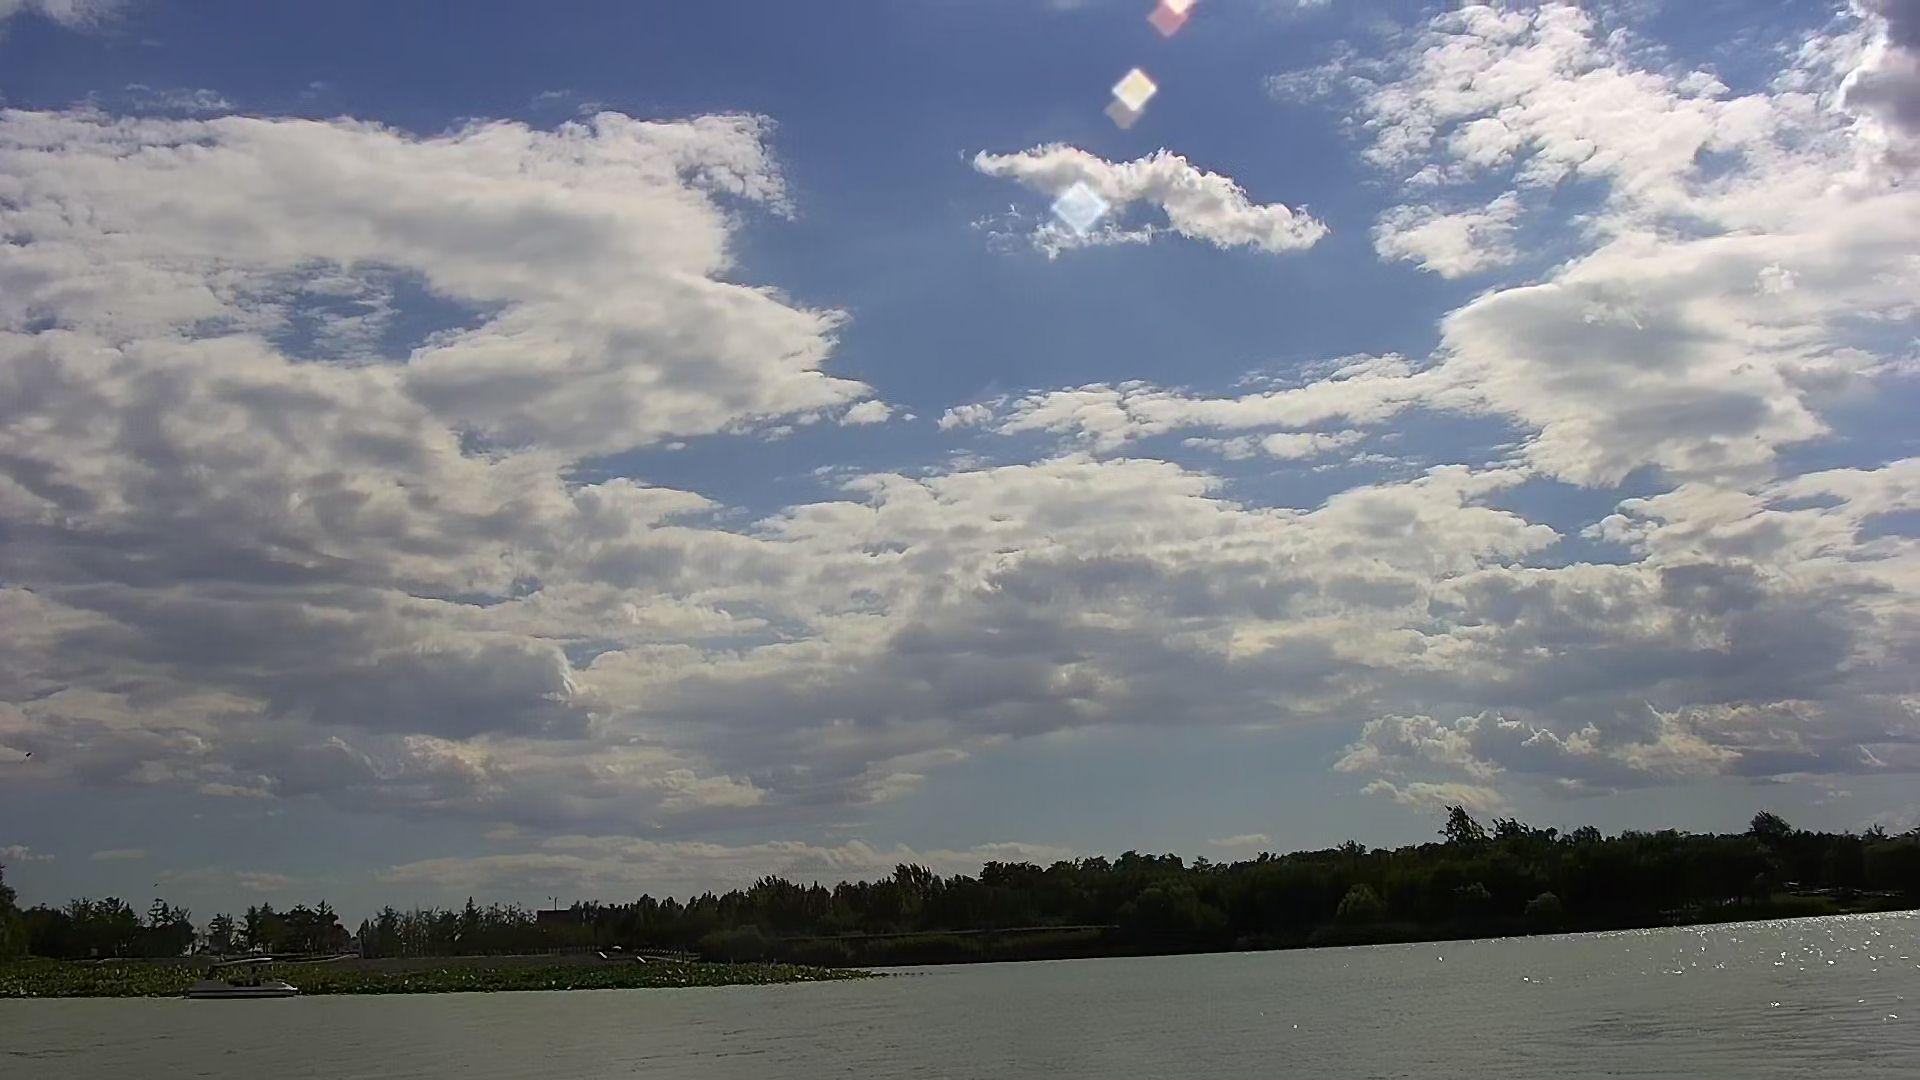boat: (179, 952, 309, 1004)
